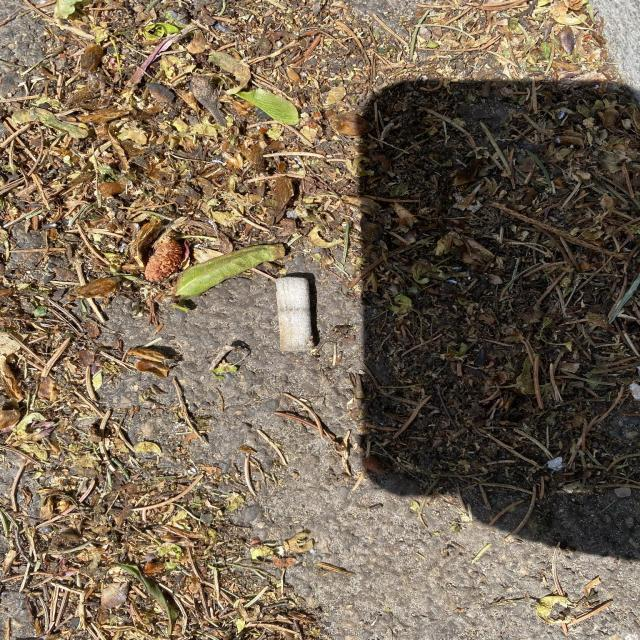other waste: (274, 276, 316, 354)
